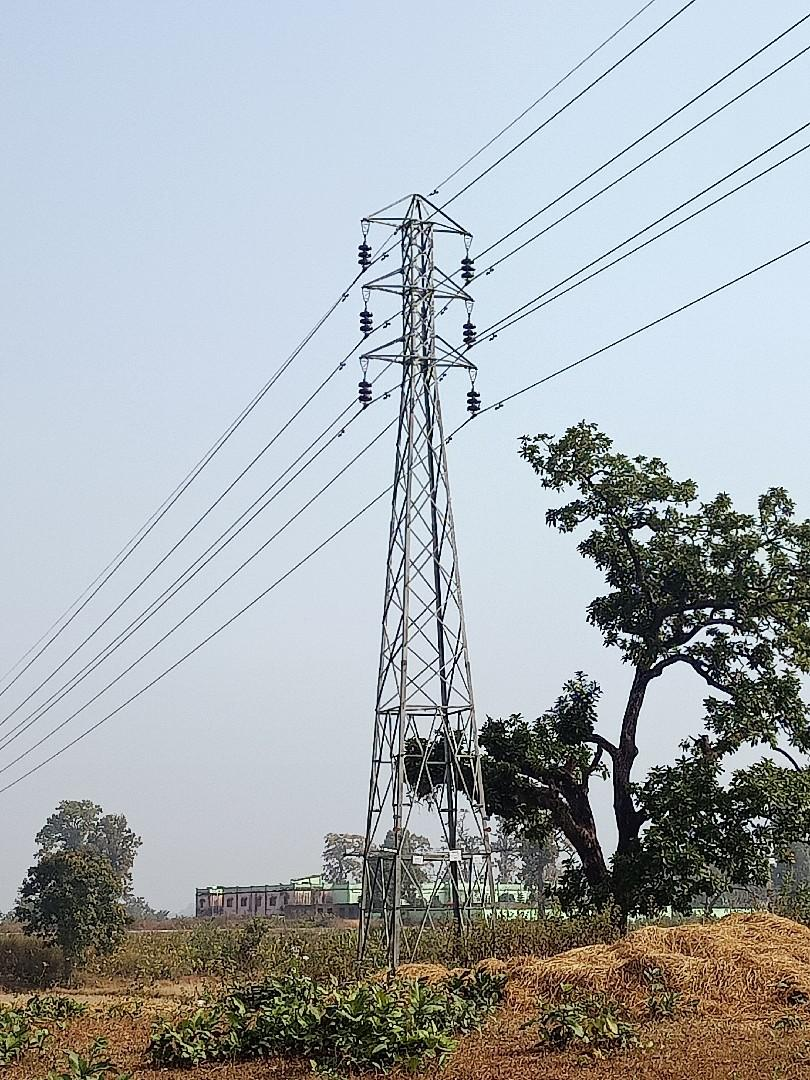GSM Antenna: (339, 190, 522, 929)
